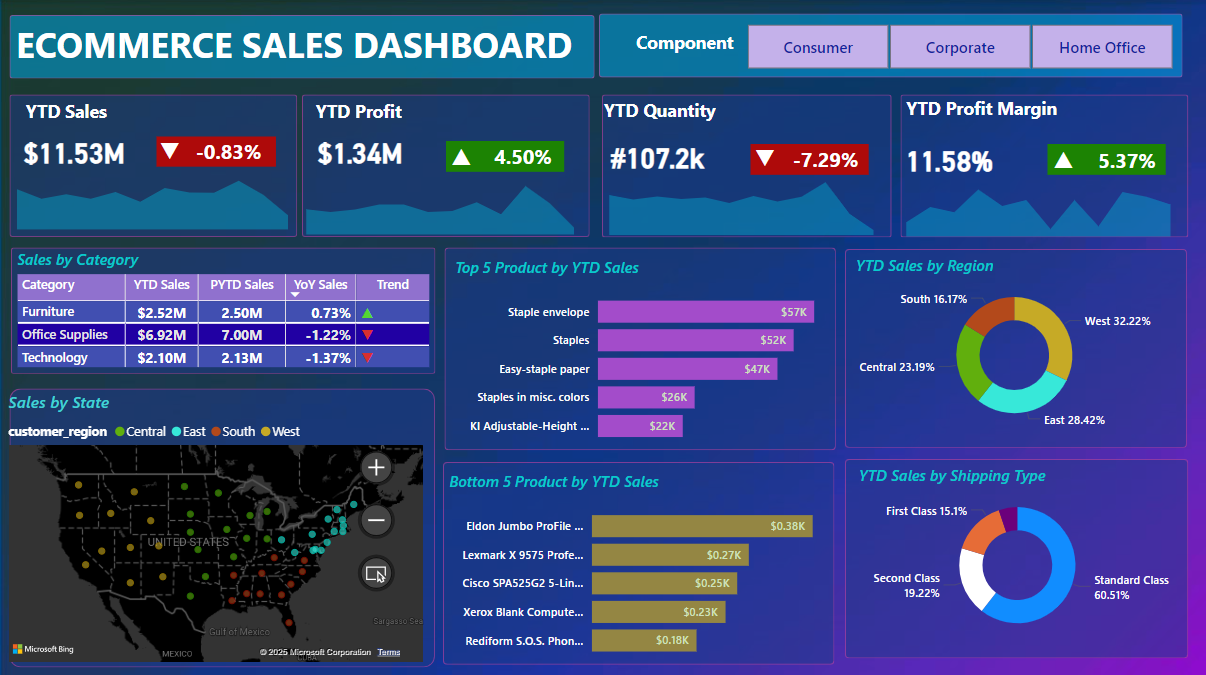

The dashboard page shown, as its layout file describes it:
{"tool":"powerbi","page":{"name":"Page 1","canvas":[1280,720],"ordinal":0},"visuals":[{"type":"shape","box":[11.6,15.4,620.4,67.4],"z":0},{"type":"textbox","box":[11.6,15.4,612.7,69.4],"z":1000},{"type":"shape","box":[11.5,99.4,305,151],"z":2000},{"type":"shape","box":[167.4,145,126.5,32],"z":3000},{"type":"card","fields":{"Values":["ecommerce_data.YTD Sales"]},"box":[0,119.3,158.5,82.2],"z":4000},{"type":"areaChart","fields":{"Category":["Calendar.Month"],"Y":["Sum(ecommerce_data.sales_per_order)"]},"box":[3.8,168.7,318.4,79.6],"z":5000},{"type":"card","fields":{"Values":["ecommerce_data.YoY Sales"]},"box":[177.3,142.6,132.9,36.6],"z":6000},{"type":"card","fields":{"Values":["ecommerce_data.Sales Icon"]},"box":[134.9,67.4,90.6,186.9],"z":7000},{"type":"textbox","box":[0,100.5,159.2,39.8],"z":8000},{"type":"card","fields":{"Values":["ecommerce_data.YoY Sales"]},"box":[984.9,187.4,132,13.4],"z":9000},{"type":"shape","box":[321.8,100.2,305,151],"z":10000},{"type":"shape","box":[474,150.3,125.2,32.8],"z":11000},{"type":"areaChart","fields":{"Category":["Calendar.Month"],"Y":["Sum(ecommerce_data.profit_per_order)"]},"box":[310.8,182,314.6,72],"z":12000},{"type":"card","fields":{"Values":["ecommerce_data.YoY Profit"]},"box":[499,150.3,111.8,34.7],"z":13000},{"type":"card","fields":{"Values":["ecommerce_data.YTD Profit"]},"box":[303.1,126.6,157.3,67.1],"z":14000},{"type":"textbox","box":[315.1,100,158.5,35.9],"z":15000},{"type":"card","fields":{"Values":["ecommerce_data.Profit Icon"]},"box":[445.1,73.2,88.6,186.9],"z":16000},{"type":"shape","box":[638.7,100.5,307.1,151.6],"z":17000},{"type":"shape","box":[797.7,152.2,125.2,32.8],"z":18000},{"type":"card","fields":{"Values":["ecommerce_data.YoY QTY"]},"box":[809.2,144.5,132.9,50.1],"z":19000},{"type":"card","fields":{"Values":["ecommerce_data.YTD Concatenated Qty"]},"box":[617.6,132.3,161.1,67.1],"z":20000},{"type":"areaChart","fields":{"Category":["Calendar.Month"],"Y":["Sum(ecommerce_data.order_quantity)"]},"box":[631.2,176.3,310.8,77.7],"z":21000},{"type":"textbox","box":[622.3,98.3,159.9,36.6],"z":22000},{"type":"card","fields":{"Values":["ecommerce_data.Qty Icon"]},"box":[768.8,75.1,86.7,186.9],"z":23000},{"type":"shape","box":[955.3,100.5,305.2,151.6],"z":24000},{"type":"shape","box":[1112.1,153.2,125.2,32.8],"z":25000},{"type":"card","fields":{"Values":["ecommerce_data.YoY Profit Margin"]},"box":[1129.1,146.4,132.9,50.1],"z":26000},{"type":"areaChart","fields":{"Category":["Calendar.Month"],"Y":["ecommerce_data.Profit Margin"]},"box":[945.8,178.2,310.8,77.7],"z":27000},{"type":"card","fields":{"Values":["ecommerce_data.YTD Profit Margin"]},"box":[926.8,134.9,159.9,67.4],"z":28000},{"type":"textbox","box":[942,96.7,216.1,39.8],"z":29000},{"type":"card","fields":{"Values":["ecommerce_data.Profit Margin Icon"]},"box":[1084.8,77.1,86.7,186.9],"z":30000},{"type":"shape","box":[13.2,262.7,450,134],"z":31000},{"type":"pivotTable","title":"Sales by Category","fields":{"Rows":["ecommerce_data.category_name"],"Values":["ecommerce_data.YTD Sales","ecommerce_data.PYTD Sales","ecommerce_data.YoY Sales","ecommerce_data.Sales Icon"]},"box":[14.8,264.4,449.3,135],"z":32000},{"type":"shape","box":[11.4,411.3,451.1,295.7],"z":33000},{"type":"map","title":"Sales by State","fields":{"Y":["united_state_long_lat_codes.latitude"],"X":["united_state_long_lat_codes.longitude"],"Series":["ecommerce_data.customer_region"]},"box":[5.5,413.6,450.4,294.1],"z":35000},{"type":"shape","box":[472.4,262.9,415,215],"z":36000},{"type":"shape","box":[471.5,489.9,415,215],"z":37000},{"type":"barChart","title":"Top 5 Product by YTD Sales","fields":{"Category":["ecommerce_data.product_name"],"Y":["ecommerce_data.YTD Sales"]},"box":[479.5,272.4,435.4,209.1],"z":38000},{"type":"barChart","title":"Bottom 5 Product by YTD Sales","fields":{"Category":["ecommerce_data.product_name"],"Y":["ecommerce_data.YTD Sales"]},"box":[471.9,498.7,435.4,209.1],"z":39000},{"type":"shape","box":[897.7,264.7,362.5,211],"z":40000},{"type":"shape","box":[897,487.1,364,211.4],"z":41000},{"type":"donutChart","title":"YTD Sales by Region","fields":{"Category":["ecommerce_data.customer_region"],"Y":["ecommerce_data.YTD Sales"]},"box":[904.1,269.9,345.7,190.4],"z":42000},{"type":"donutChart","title":"YTD Sales by Shipping Type","fields":{"Category":["ecommerce_data.shipping_type"],"Y":["ecommerce_data.YTD Sales"]},"box":[905.9,493.6,345.7,190.4],"z":43000},{"type":"shape","box":[635.9,15.1,618.9,67.9],"z":44000},{"type":"slicer","fields":{"Values":["ecommerce_data.customer_segment"]},"box":[768,18.9,500.1,60.4],"z":45000},{"type":"textbox","box":[657.7,26.5,140.3,45.5],"z":46000}]}

Visuals, with their boxes in screenshot pixels (x1, y1, x2, y2), scaled from the page's 1280x720 canvas onto the 1206x675 screenshot:
shape: 11:14:595:78
textbox: 11:14:588:80
shape: 11:93:298:235
shape: 158:136:277:166
card - ecommerce_data.YTD Sales: 0:112:149:189
areaChart - Calendar.Month x Sum(ecommerce_data.sales_per_order): 4:158:304:233
card - ecommerce_data.YoY Sales: 167:134:292:168
card - ecommerce_data.Sales Icon: 127:63:212:238
textbox: 0:94:150:132
card - ecommerce_data.YoY Sales: 928:176:1052:188
shape: 303:94:591:236
shape: 447:141:565:172
areaChart - Calendar.Month x Sum(ecommerce_data.profit_per_order): 293:171:589:238
card - ecommerce_data.YoY Profit: 470:141:575:173
card - ecommerce_data.YTD Profit: 286:119:434:182
textbox: 297:94:446:127
card - ecommerce_data.Profit Icon: 419:69:503:244
shape: 602:94:891:236
shape: 752:143:870:173
card - ecommerce_data.YoY QTY: 762:135:888:182
card - ecommerce_data.YTD Concatenated Qty: 582:124:734:187
areaChart - Calendar.Month x Sum(ecommerce_data.order_quantity): 595:165:888:238
textbox: 586:92:737:126
card - ecommerce_data.Qty Icon: 724:70:806:246
shape: 900:94:1188:236
shape: 1048:144:1166:174
card - ecommerce_data.YoY Profit Margin: 1064:137:1189:184
areaChart - Calendar.Month x ecommerce_data.Profit Margin: 891:167:1184:240
card - ecommerce_data.YTD Profit Margin: 873:126:1024:190
textbox: 888:91:1091:128
card - ecommerce_data.Profit Margin Icon: 1022:72:1104:248
shape: 12:246:436:372
"Sales by Category" pivotTable: 14:248:437:374
shape: 11:386:436:663
"Sales by State" map: 5:388:430:663
shape: 445:246:836:448
shape: 444:459:835:661
"Top 5 Product by YTD Sales" barChart: 452:255:862:451
"Bottom 5 Product by YTD Sales" barChart: 445:468:855:664
shape: 846:248:1187:446
shape: 845:457:1188:655
"YTD Sales by Region" donutChart: 852:253:1178:432
"YTD Sales by Shipping Type" donutChart: 854:463:1179:641
shape: 599:14:1182:78
slicer - ecommerce_data.customer_segment: 724:18:1195:74
textbox: 620:25:752:68
